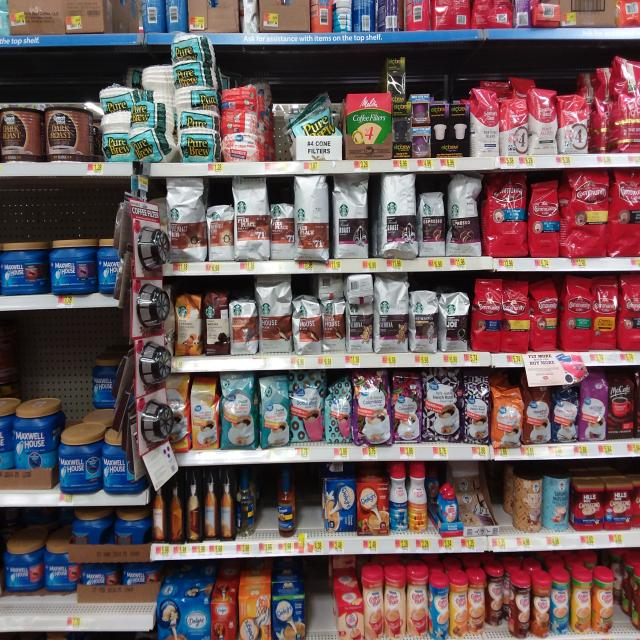empty: (291, 468, 333, 540), (303, 582, 340, 640), (253, 469, 279, 538)
